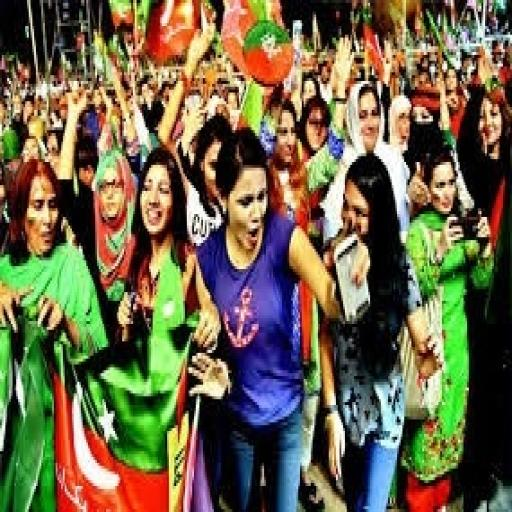dancing: (0, 18, 499, 512)
